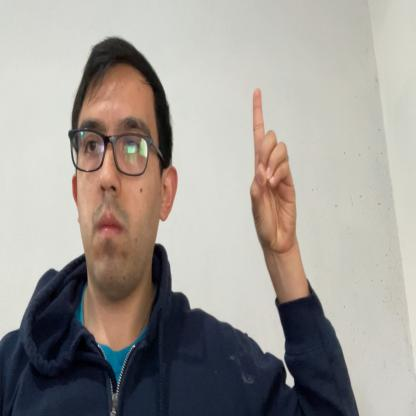D: (250, 87, 297, 247)
